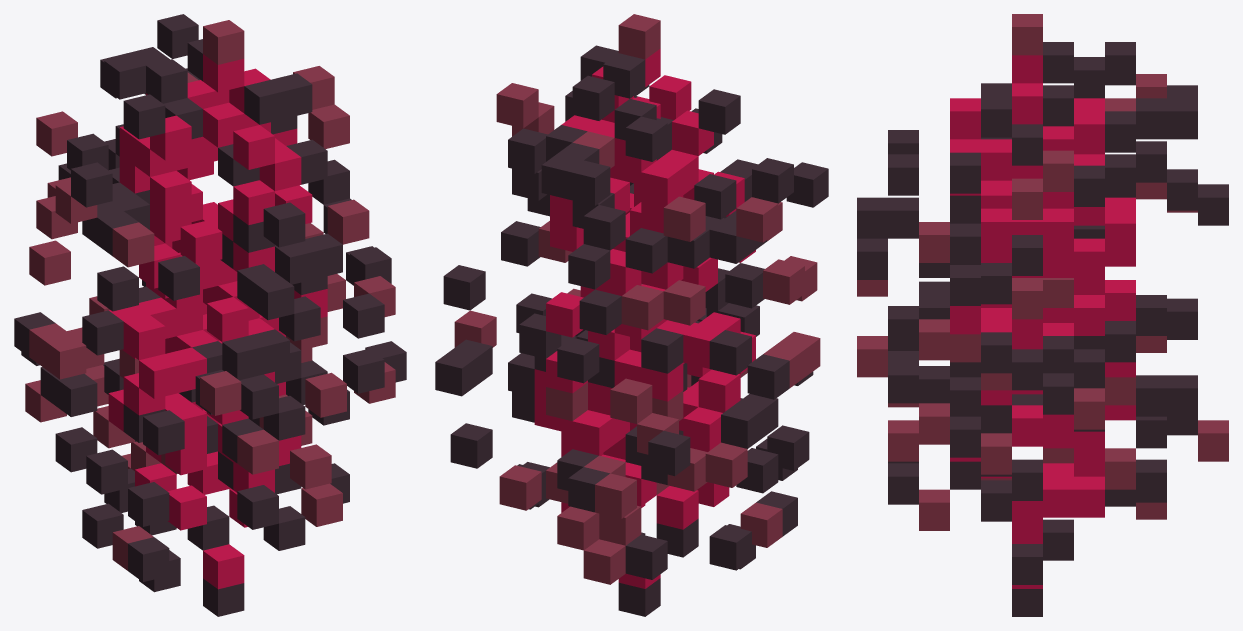
Rendered from mon-1-Boss.obj.
3 renders of one model, left to right at view 1: azimuth 30°, elevation 25°; view 2: azimuth 150°, elevation 25°; view 3: azimuth 270°, elevation 25°, orthographic.
Visible parts, largest first — view 1: Boss; view 2: Boss; view 3: Boss.
Boxes of the visible parts, left/top/right/bottom form: Boss: left=14, top=14, right=406, bottom=616; Boss: left=435, top=14, right=828, bottom=616; Boss: left=857, top=14, right=1228, bottom=616.
Size of the model in its own units: 1.3 by 2.1 by 1.2.
1 material, 1 textured.
